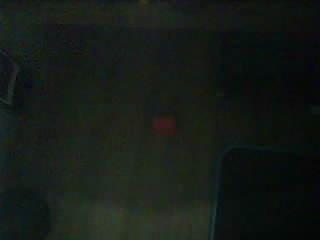lego: (150, 115, 178, 138)
